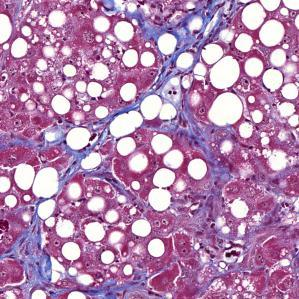fibrosis: (146, 0, 241, 96), (3, 224, 85, 289)
